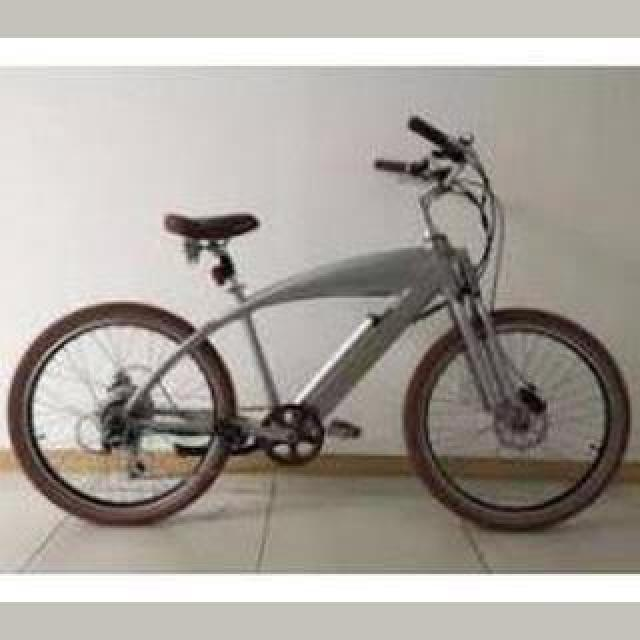Person: (3, 114, 631, 538)
